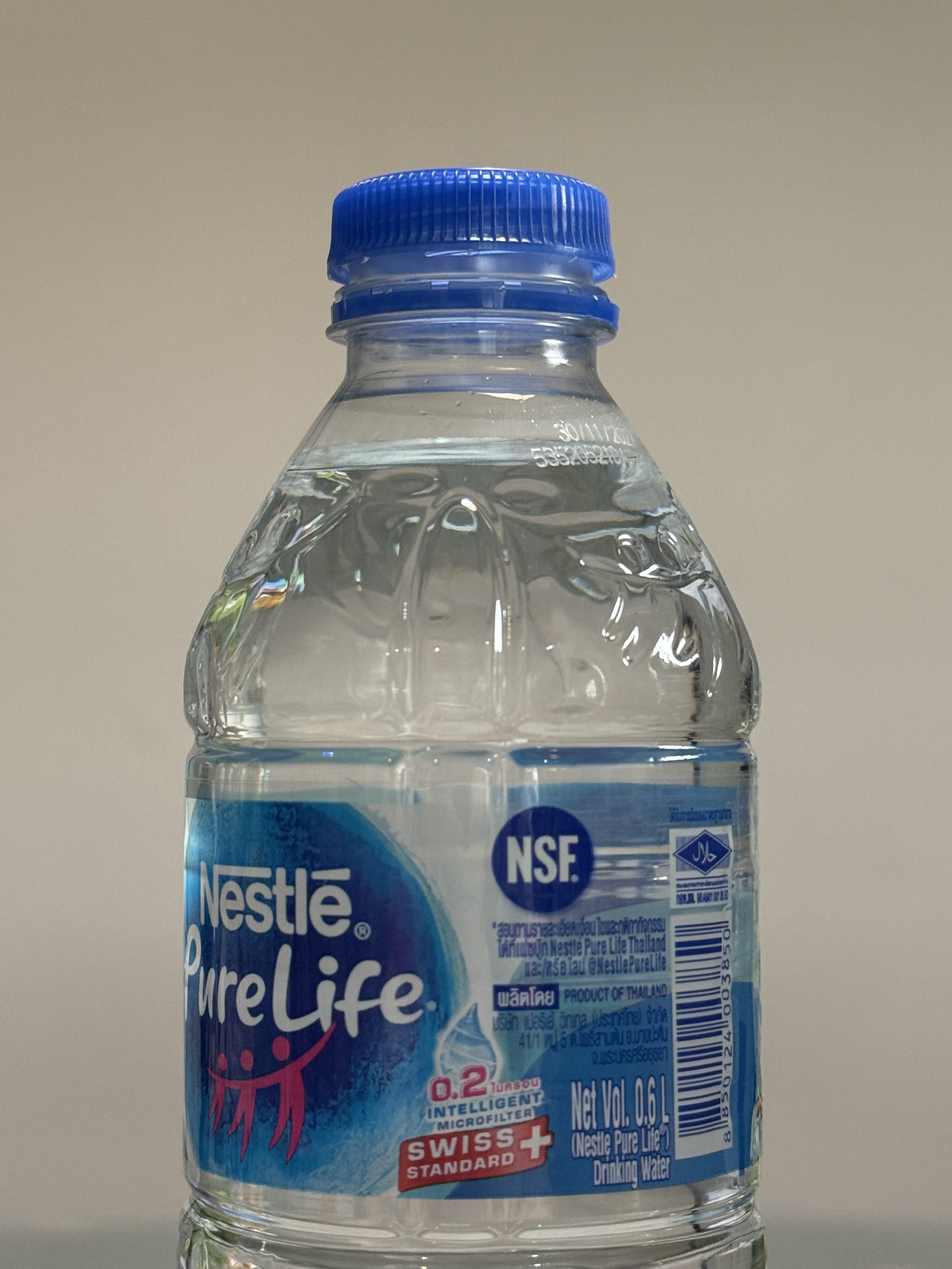half_cap: (312, 155, 628, 341)
